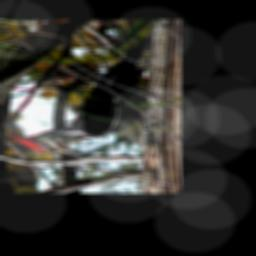Woodpecker: (12, 32, 162, 159)
